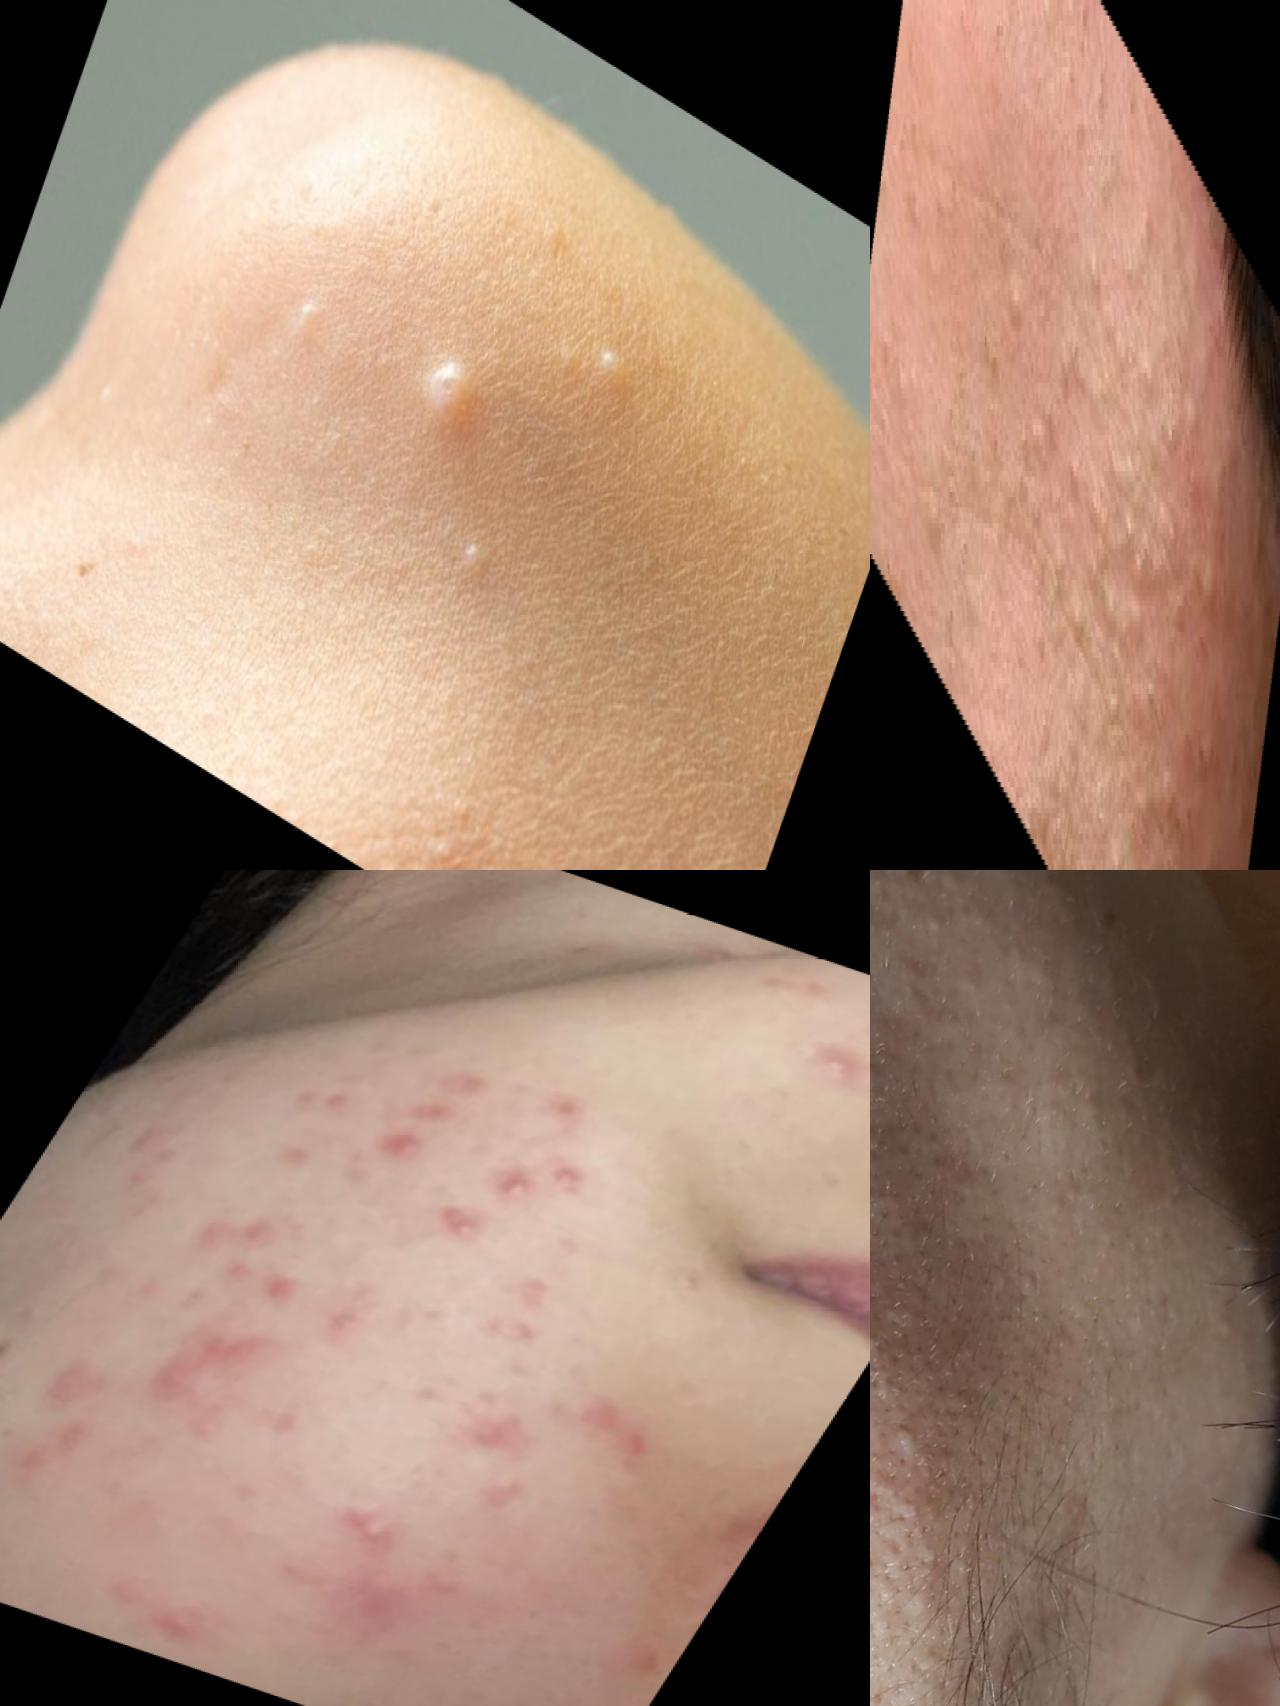blackhead: (932, 457, 992, 704), (1164, 643, 1224, 871), (891, 42, 943, 259), (1116, 735, 1154, 871), (1116, 52, 1150, 167), (953, 1, 991, 89), (976, 294, 999, 393), (986, 1, 1012, 79)
cystic: (379, 294, 530, 476)
papular: (102, 1568, 266, 1672), (298, 1475, 465, 1572), (130, 1301, 265, 1420), (378, 1042, 532, 1144), (554, 1387, 691, 1479), (311, 1566, 437, 1651), (179, 1192, 303, 1278), (89, 1119, 202, 1213), (469, 1266, 582, 1359), (773, 1020, 871, 1110), (437, 1395, 542, 1467), (453, 1463, 553, 1533), (364, 1114, 453, 1188), (233, 1394, 328, 1459), (313, 1291, 395, 1352), (524, 1080, 606, 1141), (282, 1073, 366, 1132), (243, 1265, 319, 1320)
purulent: (426, 1201, 518, 1256), (473, 1162, 549, 1217), (523, 1151, 593, 1201)
whitehead: (1068, 187, 1195, 493), (1021, 265, 1101, 555), (1086, 371, 1164, 641), (871, 1320, 969, 1504), (1033, 483, 1107, 711), (871, 871, 1021, 971), (254, 247, 354, 358), (567, 302, 645, 419), (440, 500, 520, 609), (998, 225, 1047, 401)
